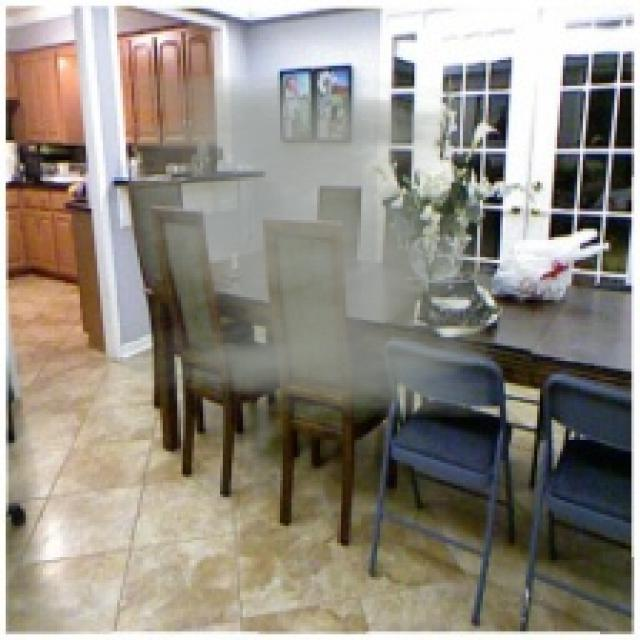smoke: (129, 74, 494, 417)
